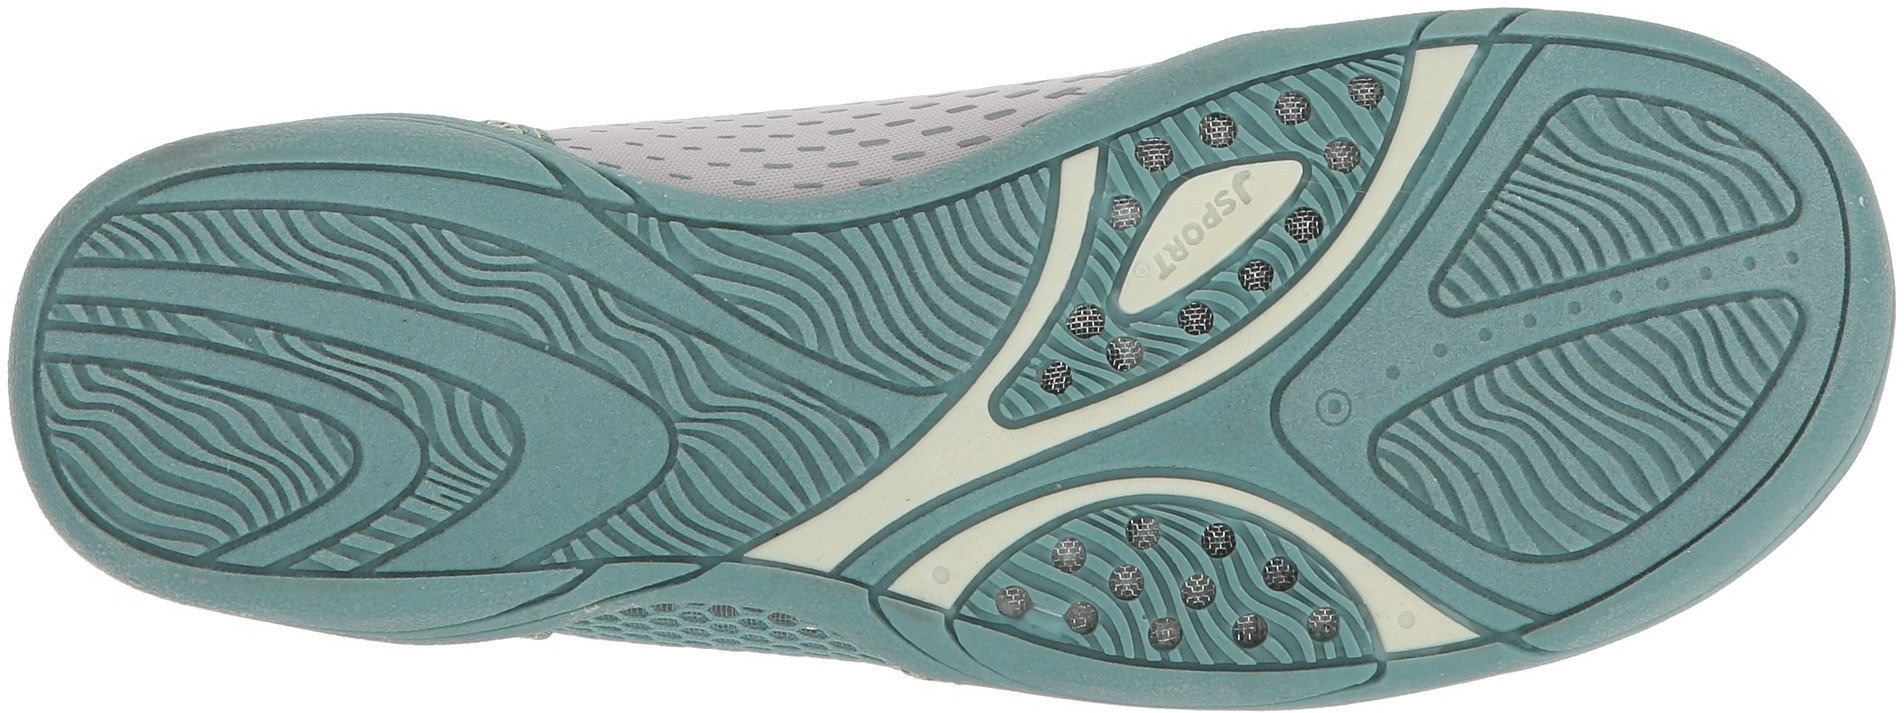chevron: (1422, 26, 1814, 336), (240, 281, 597, 572)
circle: (1422, 26, 1814, 336), (1101, 113, 1358, 377), (1094, 510, 1248, 653), (1028, 292, 1152, 411), (1169, 168, 1273, 264), (1303, 381, 1362, 436), (916, 548, 975, 602)
line: (1422, 26, 1814, 336), (240, 281, 597, 572), (1101, 113, 1358, 377), (55, 261, 215, 447), (1464, 394, 1631, 533), (1094, 510, 1248, 653), (821, 234, 971, 372), (681, 387, 818, 513), (1028, 292, 1152, 411), (916, 548, 975, 602)
quad: (1453, 352, 1651, 536), (803, 211, 987, 391), (1540, 112, 1700, 258), (101, 392, 257, 530)
text: (1101, 113, 1358, 377), (1169, 168, 1273, 264)
triangle: (1422, 26, 1814, 336), (1101, 113, 1358, 377)
